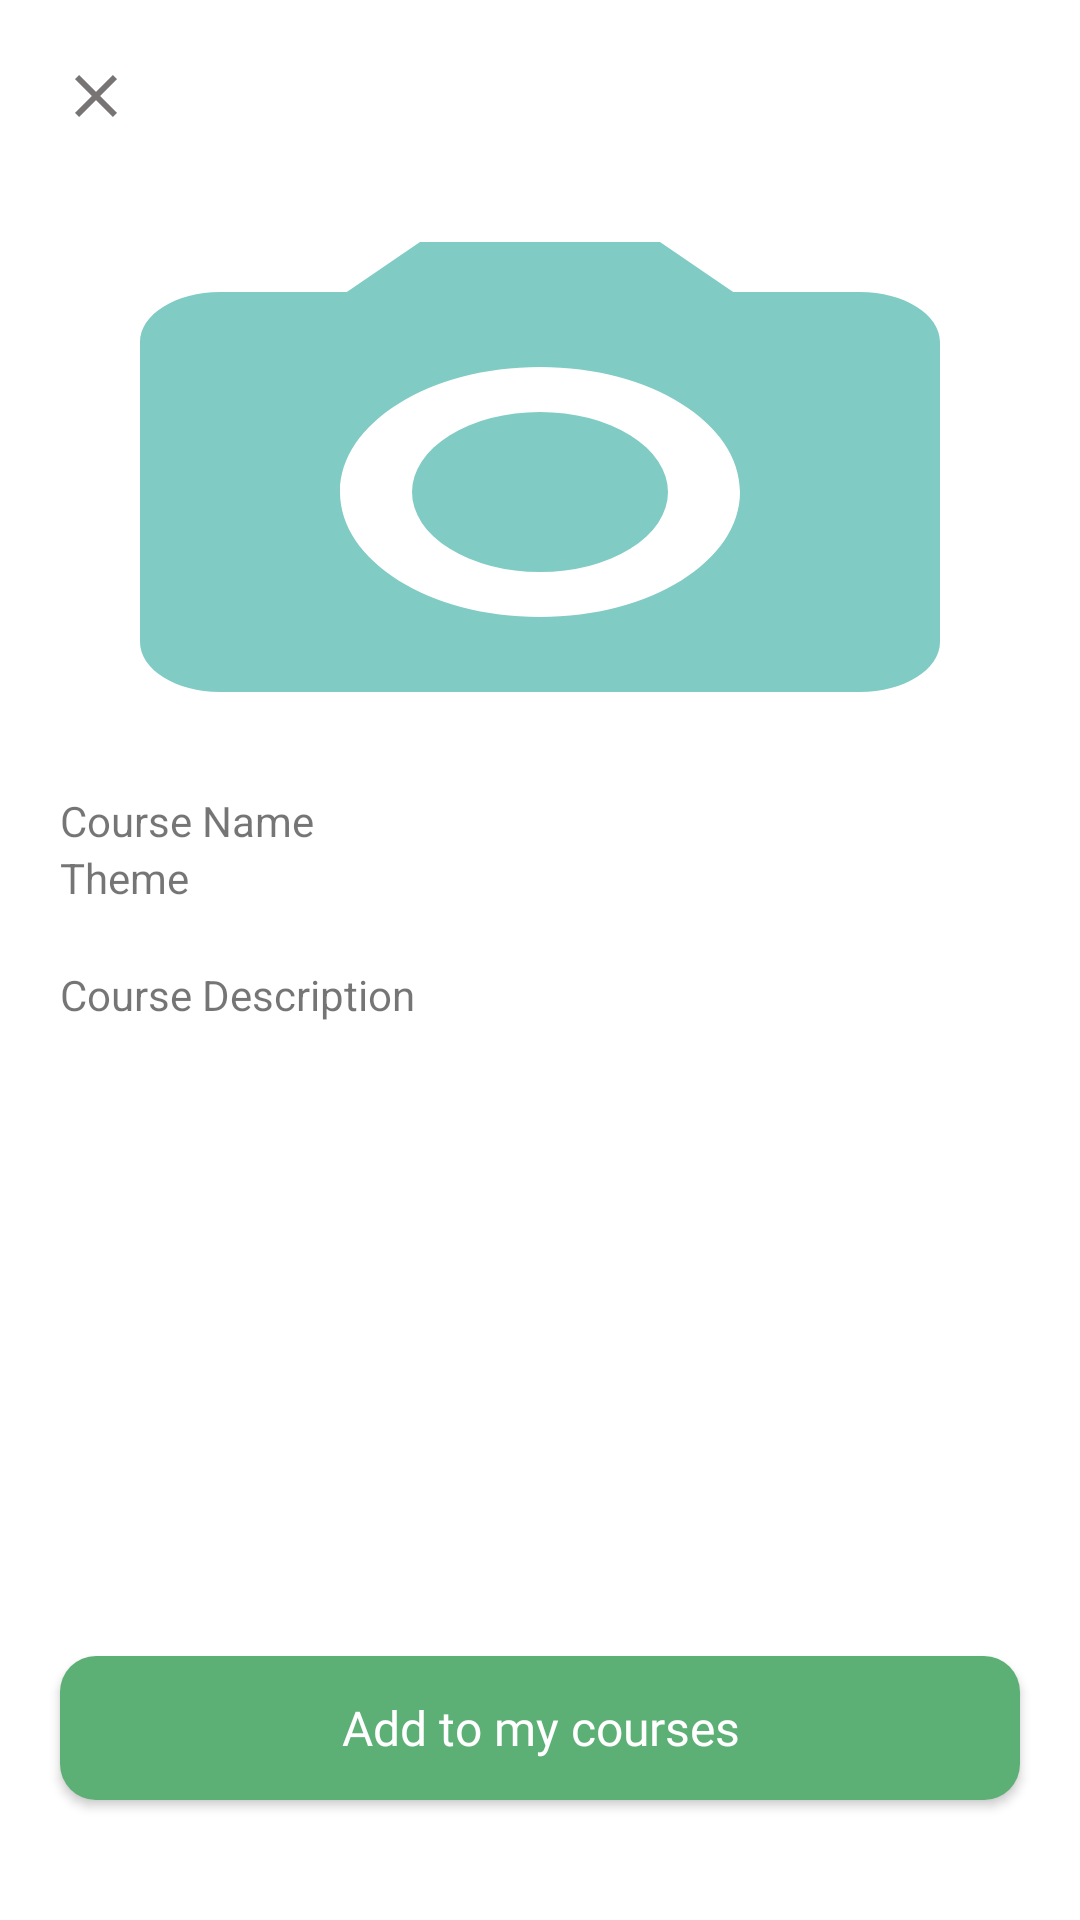

Screen size 1080px x 1920px. Icon name, then its box in pixels as (x1, y1, x2, y2):
close: (75, 75, 117, 117)
